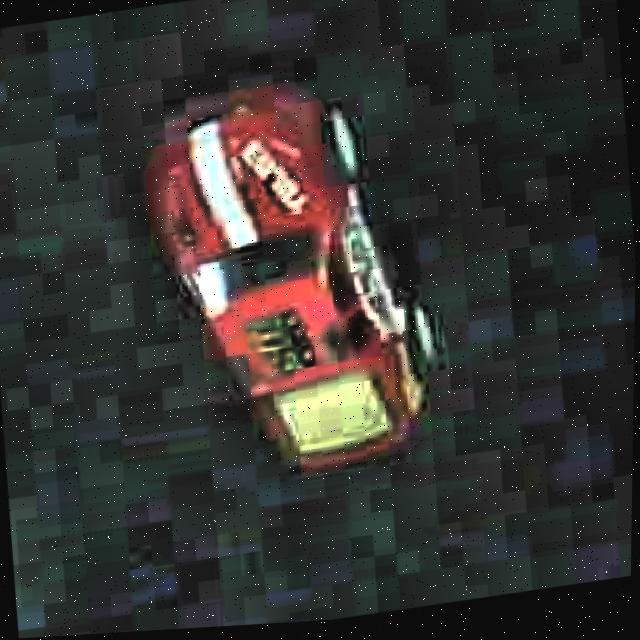car: (121, 34, 459, 512)
